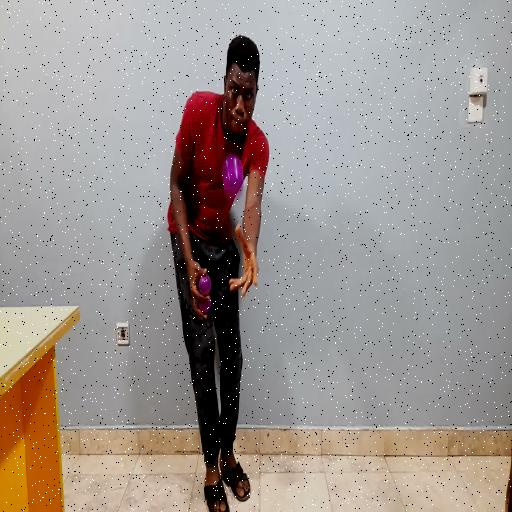plastic-ball: (220, 153, 242, 203)
